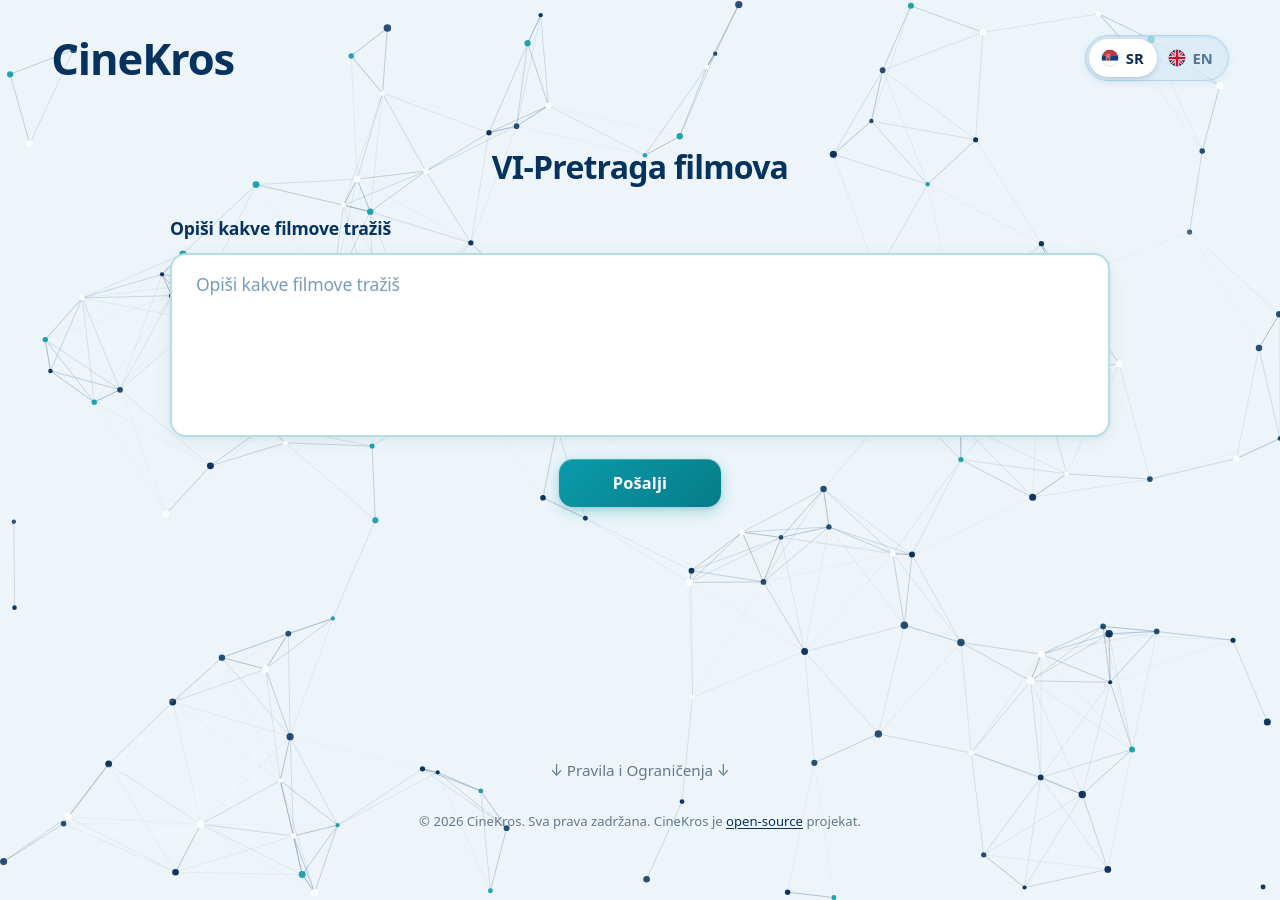
Test: v2 recommendation frontend › accepts business alert 422/NOT_MOVIE_REQUEST only with its contract status and copy
Type "film" into the text box at (640, 345), box [170,253,1110,437]
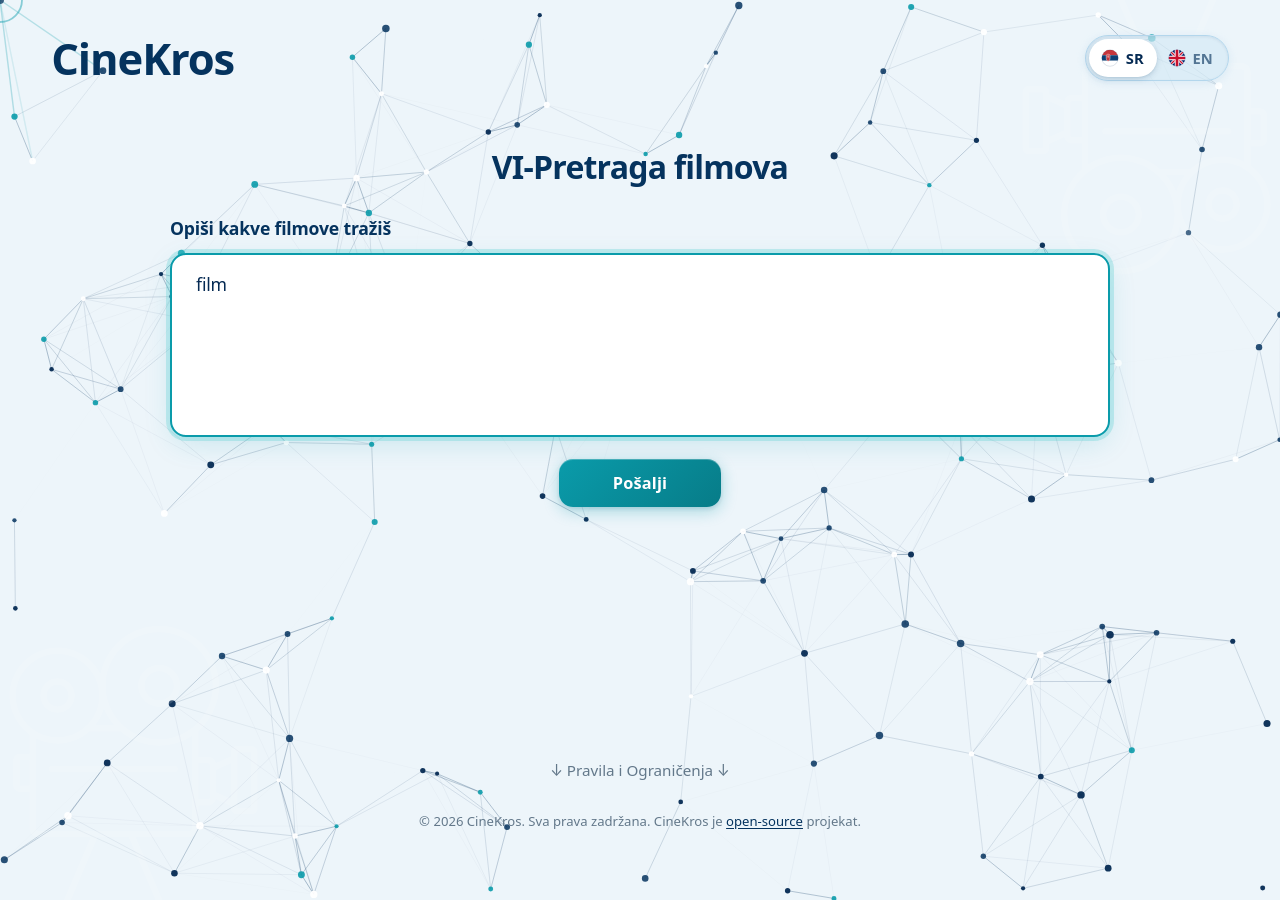
Click the button "Pošalji" at (640, 483), box [559,459,721,507]
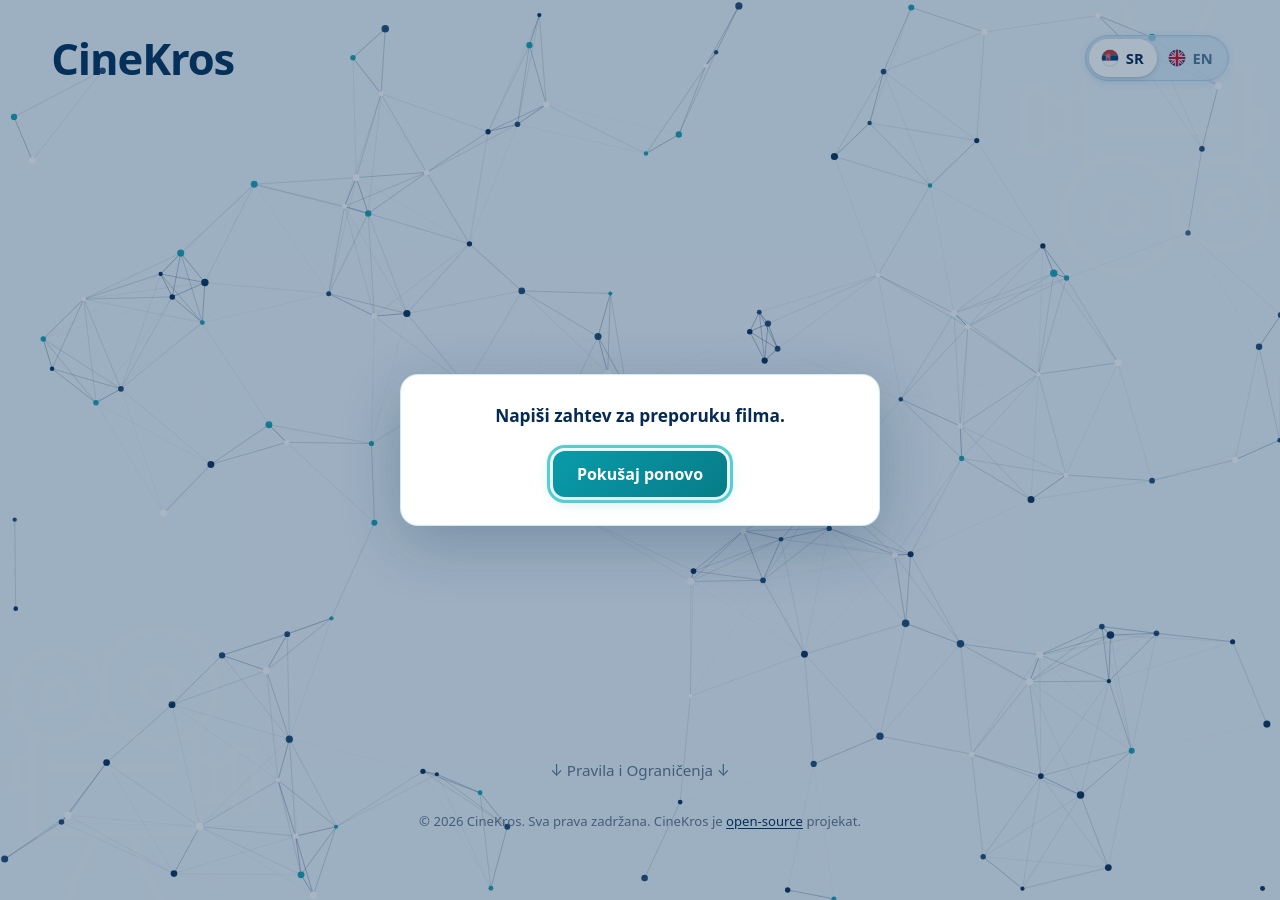
Expected: the dialog shows "Napiši zahtev za preporuku filma.", [495,404,785,427]
